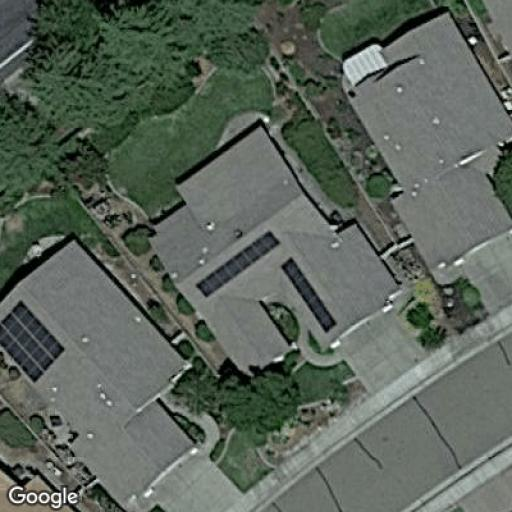solar-panel: (193, 228, 281, 299), (3, 301, 64, 387), (280, 256, 339, 335)
